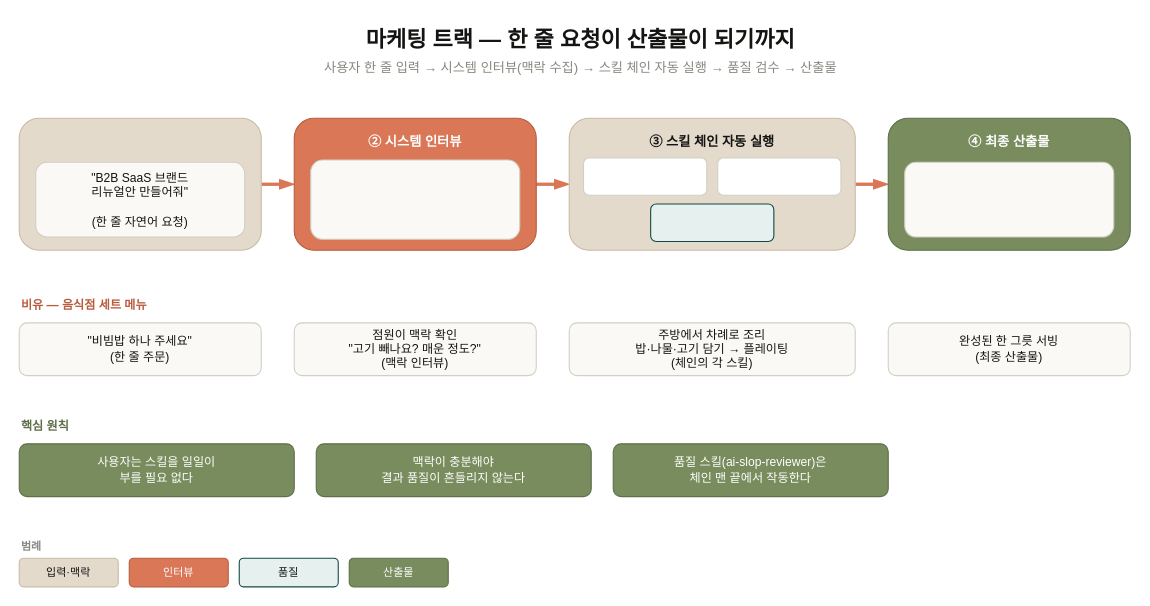
Some shapes in this 1150 by 606 pixel diagram are drawn without their labels. The shapes that lost their labels are listed below. From the top down, each one's box as (x1, y1, x2, y2) in pixels, then its label:
(18, 117, 261, 250): ① 사용자 입력
(582, 157, 707, 195): brand-identity (브랜드 설계)
(717, 157, 841, 195): docx-generator (문서 저장)
(310, 159, 520, 239): AskUserQuestion으로 맥락 3-4문항 수집 · 타깃 고객 · 산출물 형식 · 핵심 포인트
(904, 161, 1114, 237): 완성된 한 그릇 · 브랜드 아이덴티티 문서 · 검수 완료된 원고
(650, 203, 774, 241): ai-slop-reviewer (AI 티 검수)
